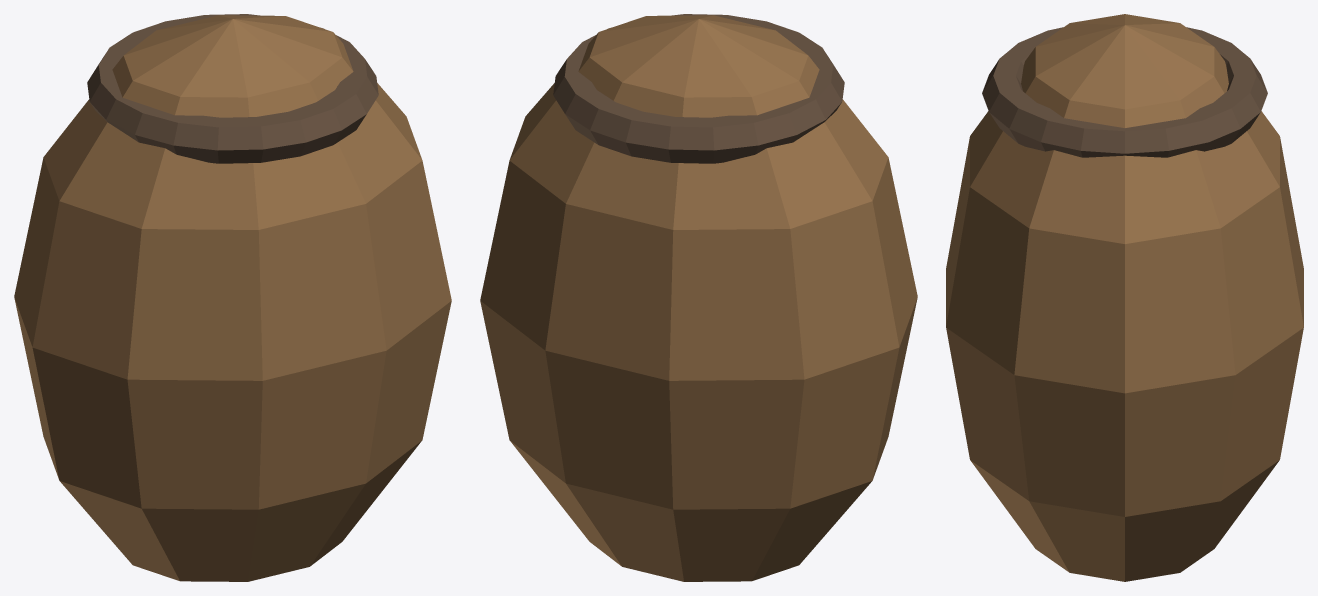
The model's file is objects-jar.lod0.glb.
3 views of the same model, side by side, from view 1: azimuth 30°, elevation 25°; view 2: azimuth 150°, elevation 25°; view 3: azimuth 270°, elevation 25° (orthographic). The views are drawn at different scales.
Visible parts, largest first — view 1: objects-jar__body; view 2: objects-jar__body; view 3: objects-jar__body.
Boxes of the visible parts, x1,y1,x2,y2 form: objects-jar__body: [14, 14, 451, 581]; objects-jar__body: [480, 14, 917, 581]; objects-jar__body: [946, 14, 1303, 581].
Size of the model in its own units: 0.6 by 0.8 by 0.4755.
